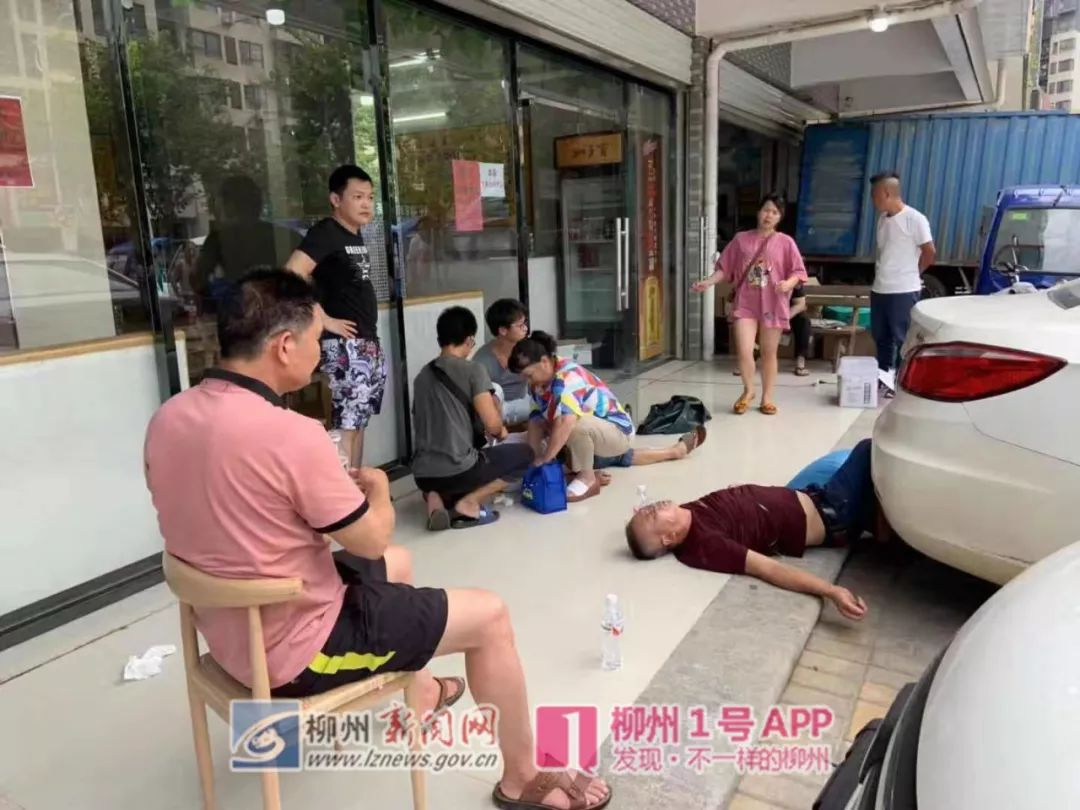fall: (613, 430, 911, 623)
